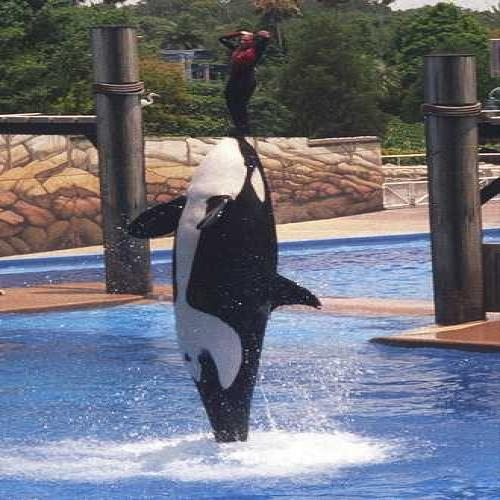killer_whale-endangered: (134, 133, 338, 450)
